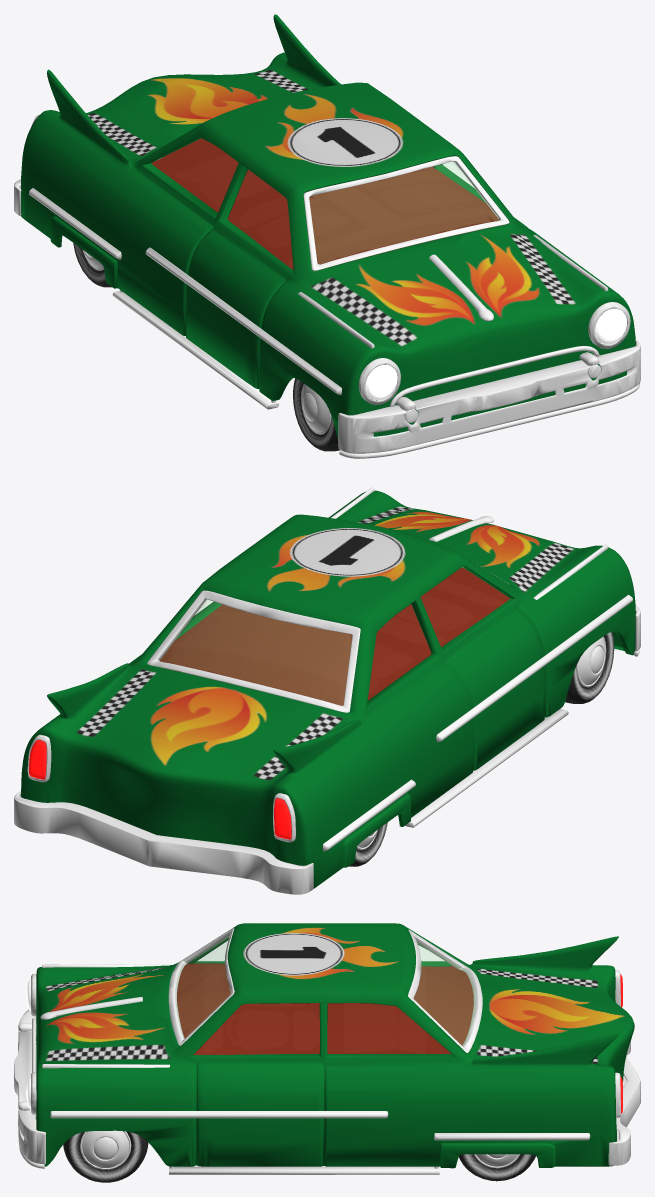
The model's file is car.glb.
The picture shows the model from 3 angles, top to bottom: view 1: azimuth 30°, elevation 25°; view 2: azimuth 150°, elevation 25°; view 3: azimuth 270°, elevation 25°; orthographic projection. The views are drawn at different scales.
Parts seen in each view (by area): view 1: ToyCar, Glass; view 2: ToyCar, Glass; view 3: ToyCar, Glass.
Part boxes in pixels (bbox=[...]): ToyCar: bbox=[14, 14, 640, 458]; Glass: bbox=[309, 162, 499, 263]; ToyCar: bbox=[14, 487, 640, 894]; Glass: bbox=[159, 599, 351, 705]; ToyCar: bbox=[14, 923, 640, 1182]; Glass: bbox=[175, 935, 475, 1045].
Size of the model in its own units: 0.0187 by 0.0116 by 0.0384.
2 materials, 1 textured.
